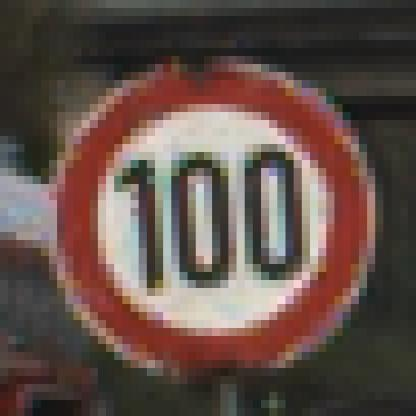Speed Limit 100: (60, 60, 370, 372)
